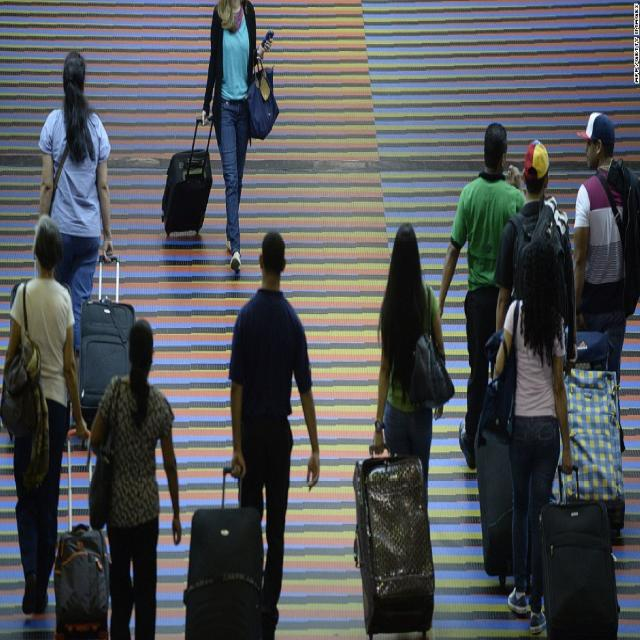body: (0, 210, 90, 618), (227, 226, 322, 603), (488, 236, 575, 636), (86, 316, 184, 639), (436, 120, 526, 470), (36, 48, 116, 426), (199, 0, 280, 277), (372, 220, 448, 512), (494, 138, 579, 372), (572, 109, 628, 454)
